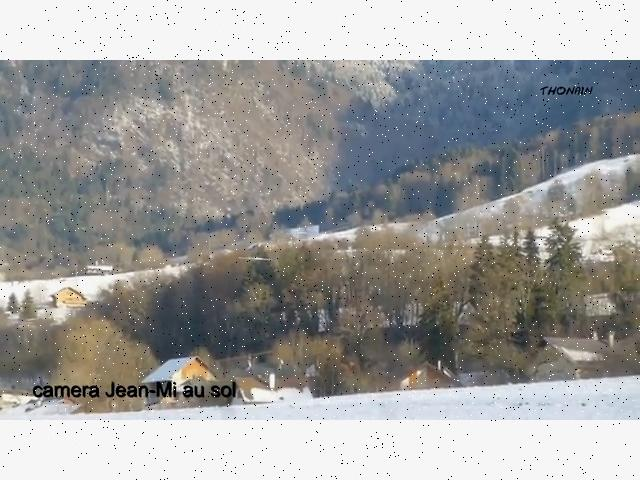Anti-Drone: (234, 246, 276, 272)
